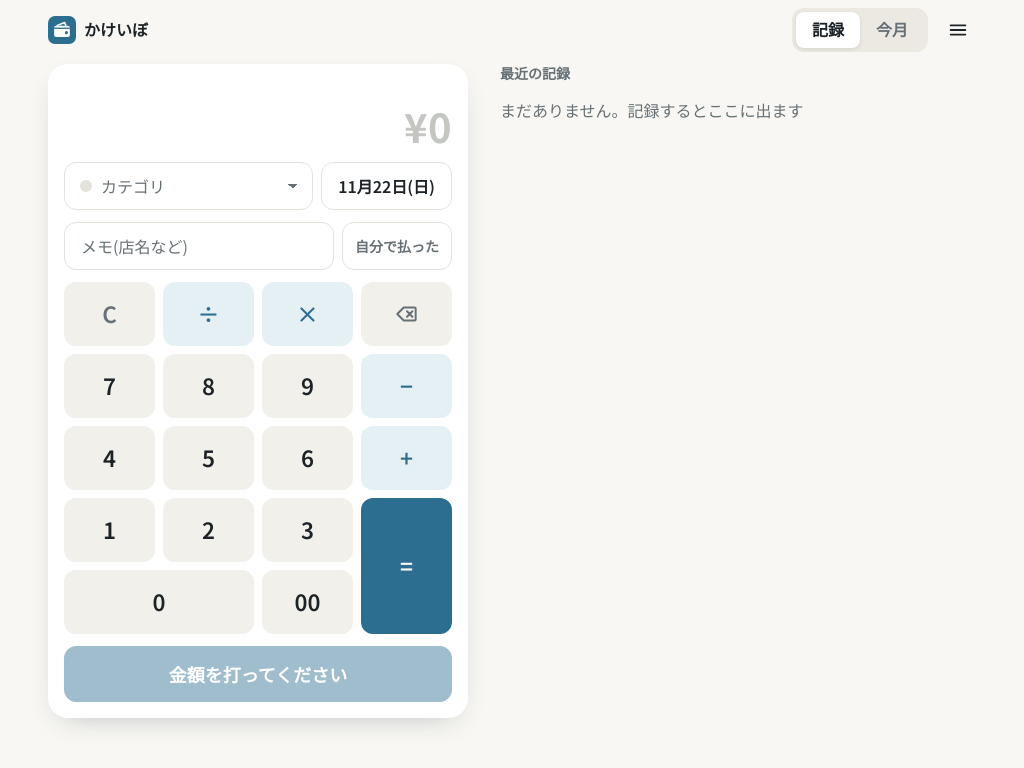
it: 今月 › 残りと、月末までの日数・1日あたりの額を出す
What coordinates should you click on to do the following:
click the button "今月"
I would click on:
 (892, 30)
Its box is [860, 12, 924, 48].
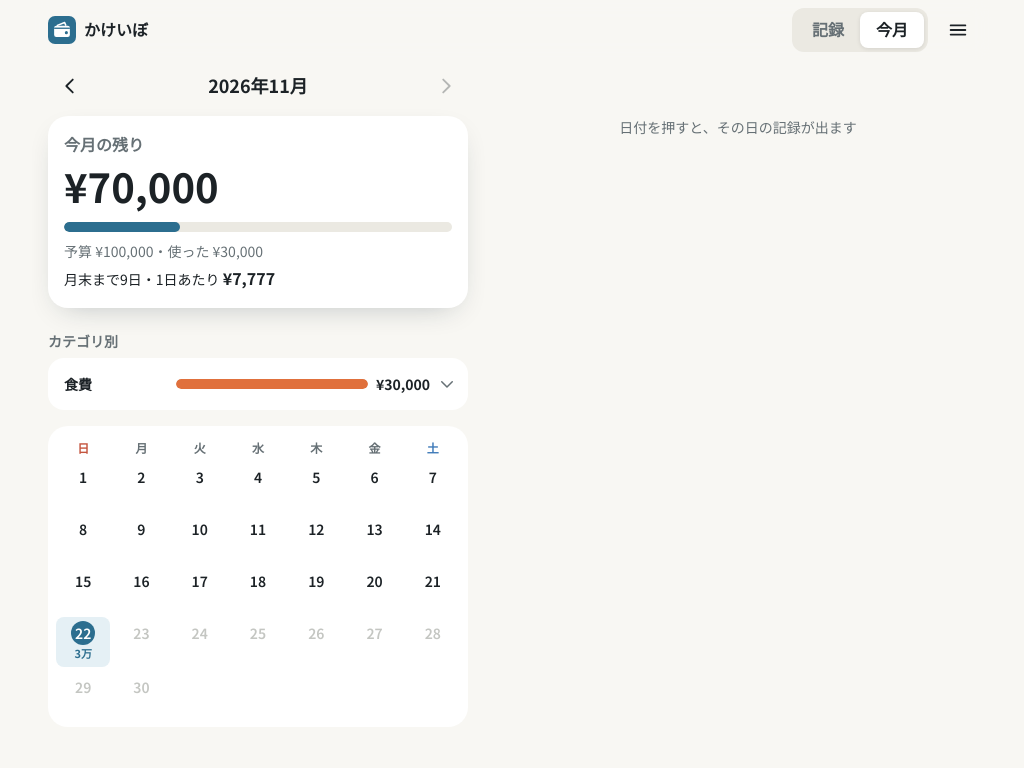
Check: the text with class "summary-big" reads "¥70,000", box [64, 157, 219, 215]
Check: the element with class "summary-pace" reads "月末まで9日・1日あたり ¥7,777", box [64, 266, 275, 292]
